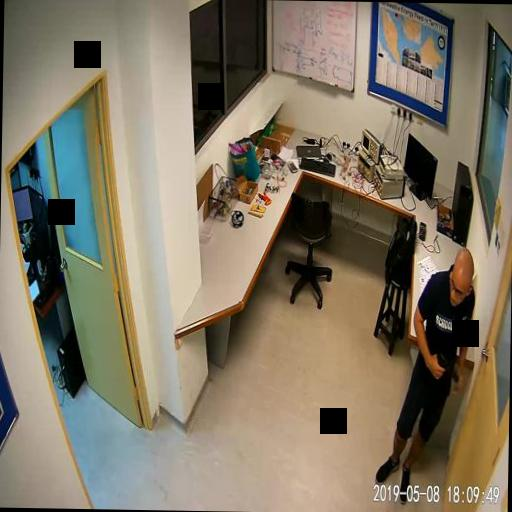Handgun: (432, 350, 458, 380)
